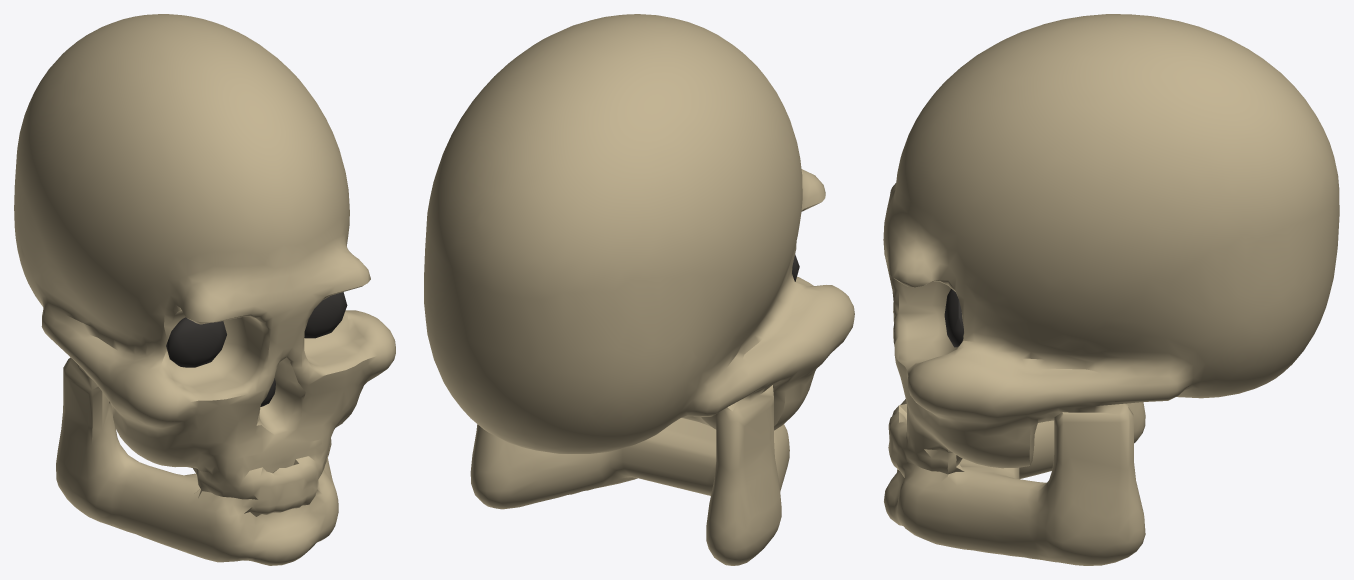
File: schaedel.glb
3 renders of one model, left to right at view 1: azimuth 30°, elevation 25°; view 2: azimuth 150°, elevation 25°; view 3: azimuth 270°, elevation 25°, orthographic. The views are drawn at different scales.
Visible parts, largest first — view 1: schaedel; view 2: schaedel; view 3: schaedel.
Boxes of the visible parts, bbox=[...] form: schaedel: bbox=[14, 14, 395, 565]; schaedel: bbox=[424, 14, 854, 565]; schaedel: bbox=[883, 14, 1339, 565].
Size of the model in its own units: 0.1401 by 0.233 by 0.1951.
